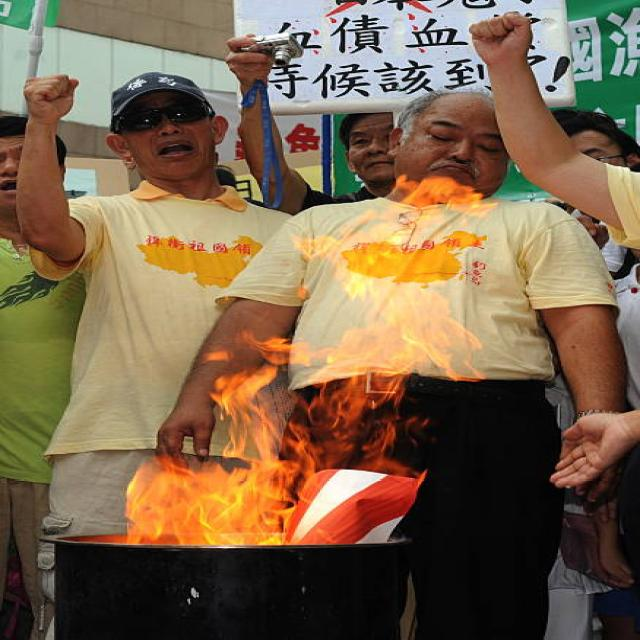fire: (290, 173, 498, 381), (202, 330, 429, 473), (127, 458, 316, 546)
